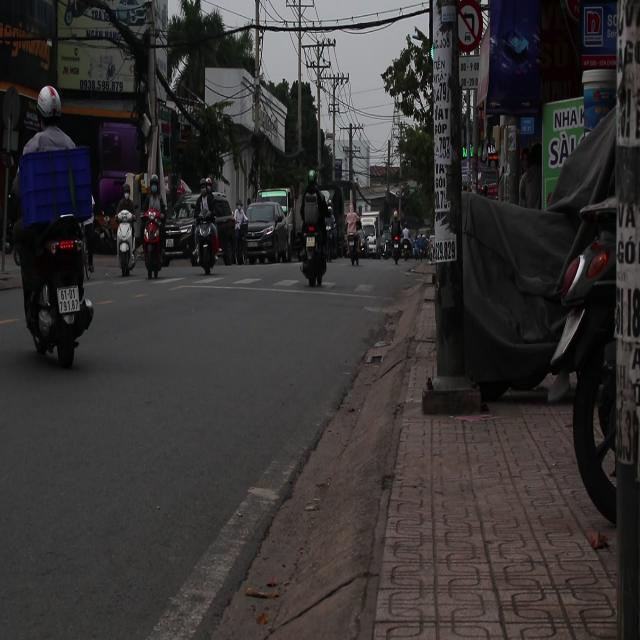car: (162, 189, 230, 268), (241, 200, 289, 263)
motorbike: (20, 217, 97, 367), (299, 209, 330, 288), (140, 192, 166, 280), (190, 212, 220, 276), (117, 210, 136, 276), (393, 236, 404, 262)
truck: (259, 190, 293, 234), (359, 211, 384, 259)
